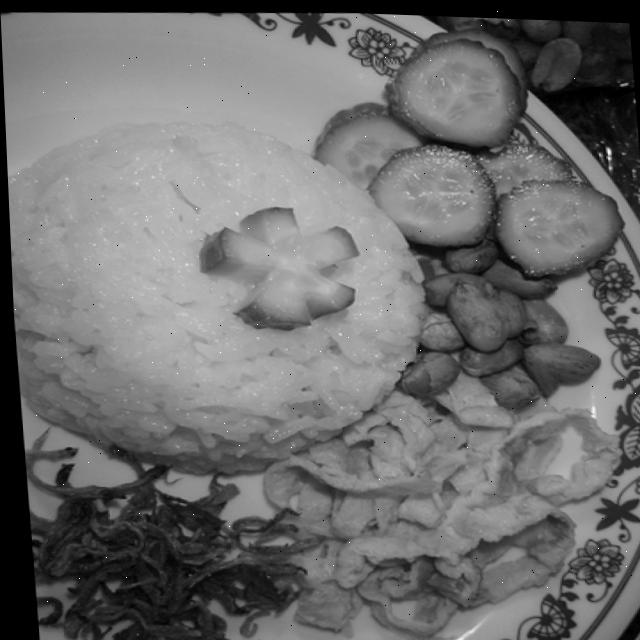米饭主食: (0, 9, 640, 635)
